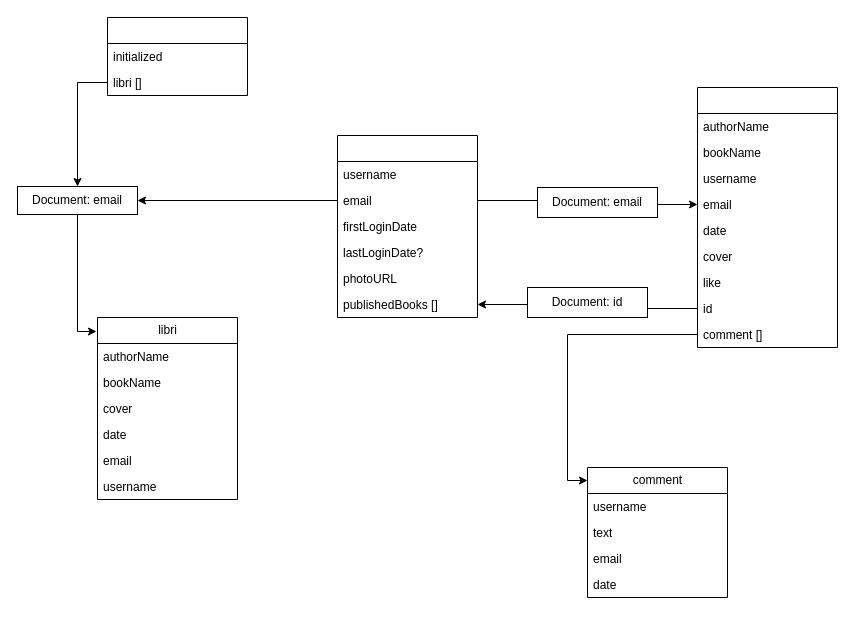
This 855x618 diagram has some shape labels left out. The box of each missing label's shape, as (x1, y1, x2, y2) in pixels:
Collection: Books: (696, 86, 838, 348)
Collection: Library: (106, 16, 248, 96)
Collection: User: (336, 134, 478, 318)
